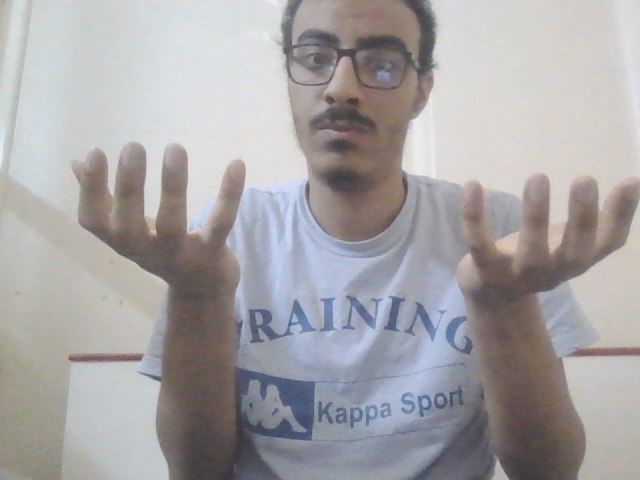What: (66, 141, 640, 298)
